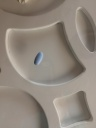Apranax: (33, 51, 44, 66)
